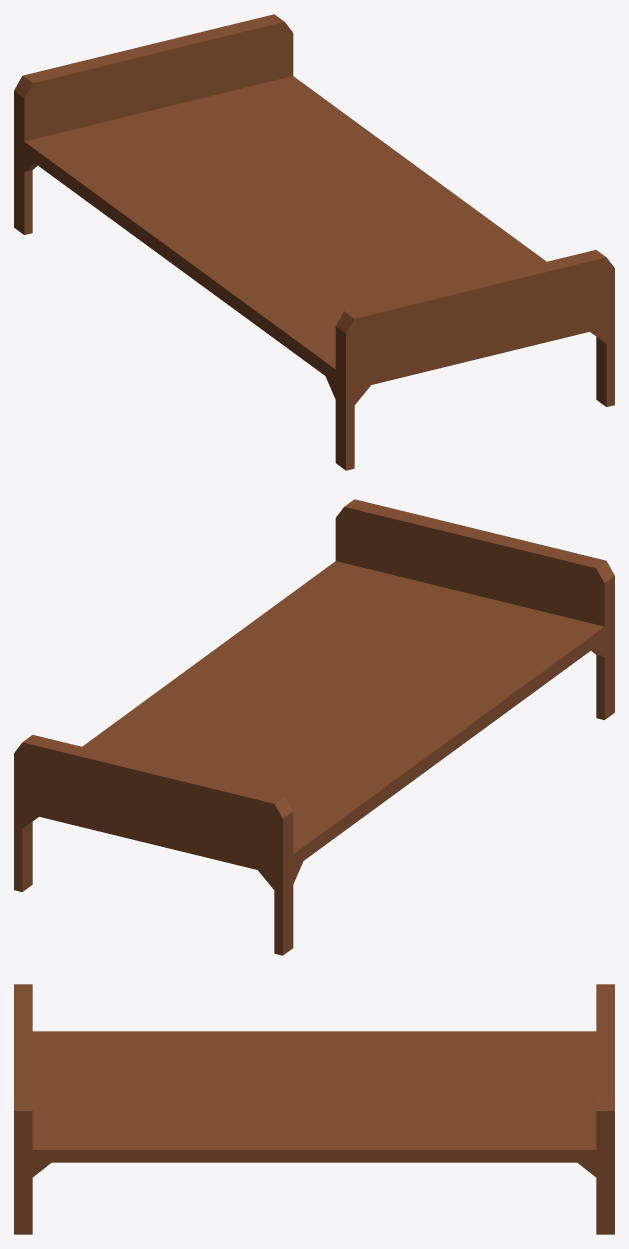
File: bed01.gltf
3 views of the same model, one above another, from view 1: azimuth 30°, elevation 25°; view 2: azimuth 150°, elevation 25°; view 3: azimuth 270°, elevation 25° (orthographic). The views are drawn at different scales.
Visible parts, largest first — view 1: Cube; view 2: Cube; view 3: Cube.
Part boxes in pixels (bbox=[...]): Cube: bbox=[14, 14, 614, 470]; Cube: bbox=[14, 499, 614, 955]; Cube: bbox=[14, 984, 614, 1234].
Bounding box in the file's own units: 1 × 0.5327 × 2.14.
1 material, 1 textured.
